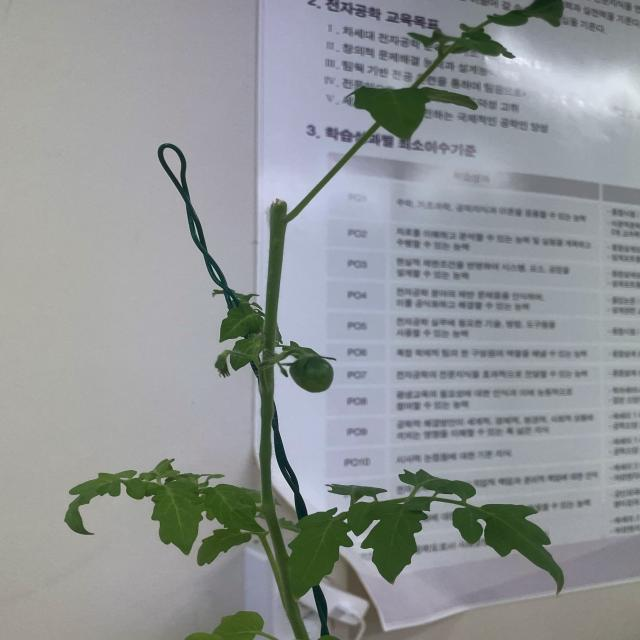level 1: (293, 356, 336, 394)
